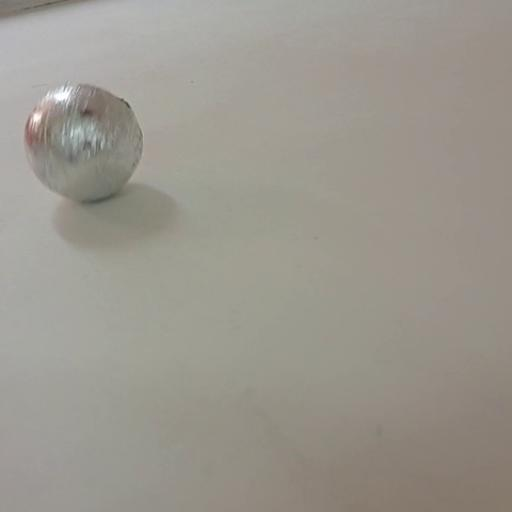alive: (20, 82, 144, 204)
